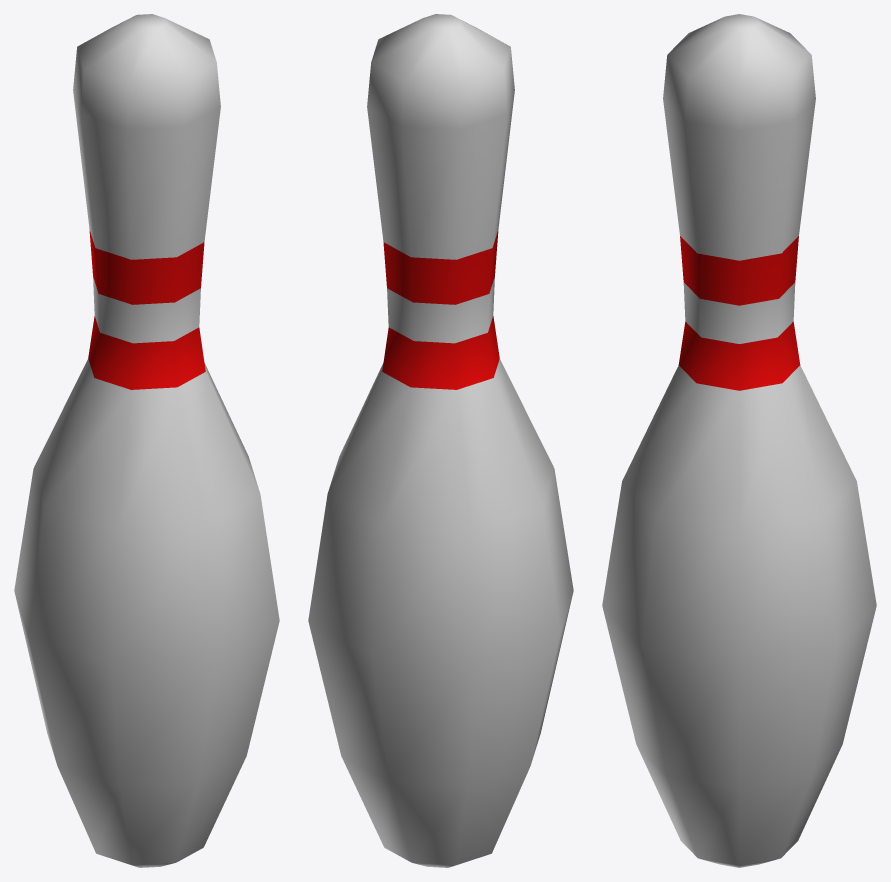
File: standardPin_model.fbx
The picture shows the model from 3 angles, left to right: view 1: azimuth 30°, elevation 25°; view 2: azimuth 150°, elevation 25°; view 3: azimuth 270°, elevation 25°; orthographic projection.
Visible parts, largest first — view 1: pCylinder1; view 2: pCylinder1; view 3: pCylinder1.
Boxes of the visible parts, left/top/right/bottom form: pCylinder1: left=14, top=14, right=279, bottom=867; pCylinder1: left=308, top=14, right=573, bottom=867; pCylinder1: left=602, top=14, right=876, bottom=867.
Size of the model in its own units: 0.9824 by 3.29 by 0.9824.
